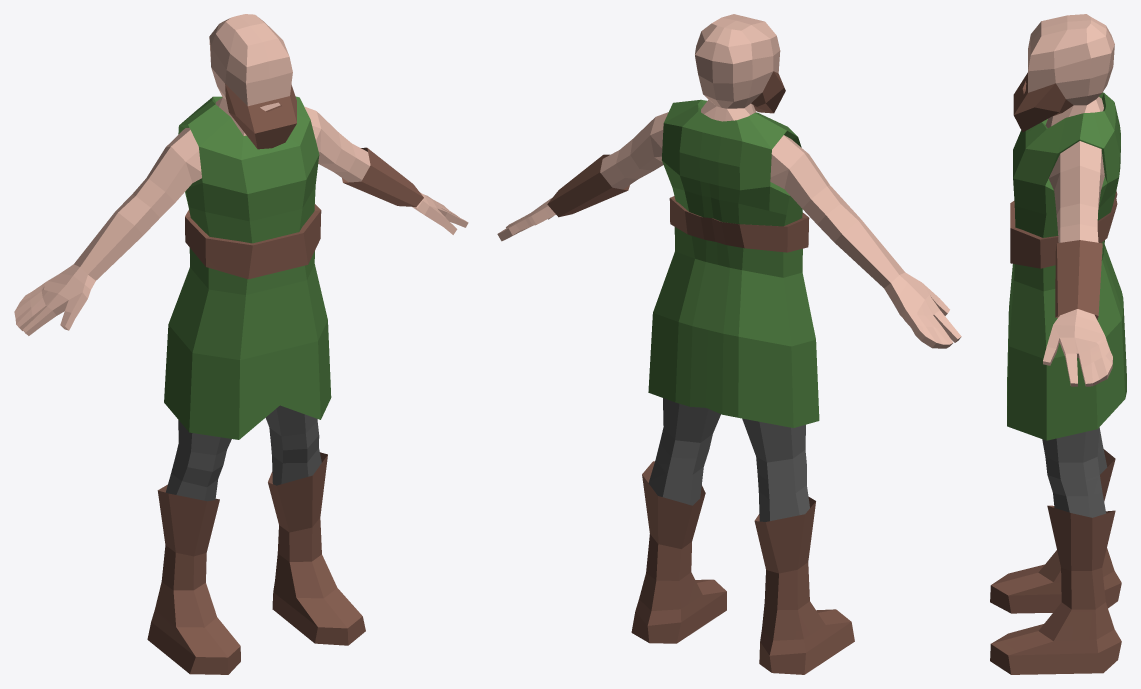
Rendered from ArcherDONE.fbx.
The picture shows the model from 3 angles, left to right: view 1: azimuth 30°, elevation 25°; view 2: azimuth 150°, elevation 25°; view 3: azimuth 270°, elevation 25°; orthographic projection. The views are drawn at different scales.
Visible parts, largest first — view 1: Archer; view 2: Archer; view 3: Archer.
Part boxes in pixels (x1,y1,x2,y2): Archer: (14, 14, 468, 674); Archer: (497, 14, 961, 674); Archer: (990, 14, 1126, 674).
Bounding box in the file's own units: 386 × 507 × 103.
